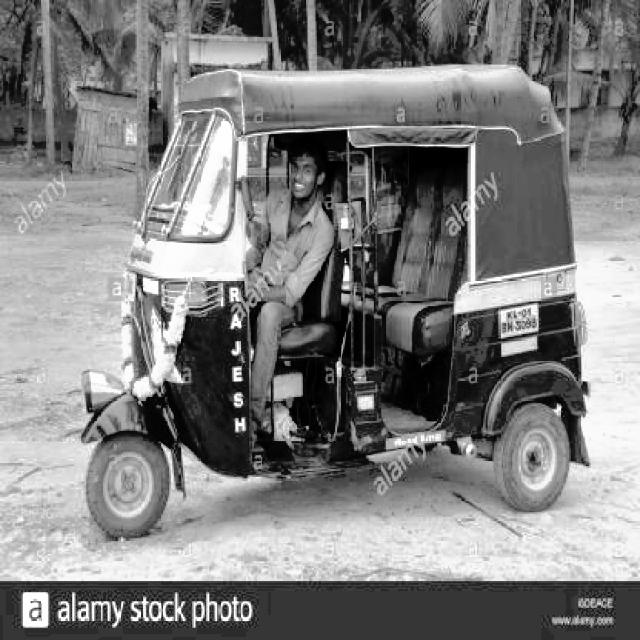Auto-Rickshaw: (82, 63, 600, 544)
